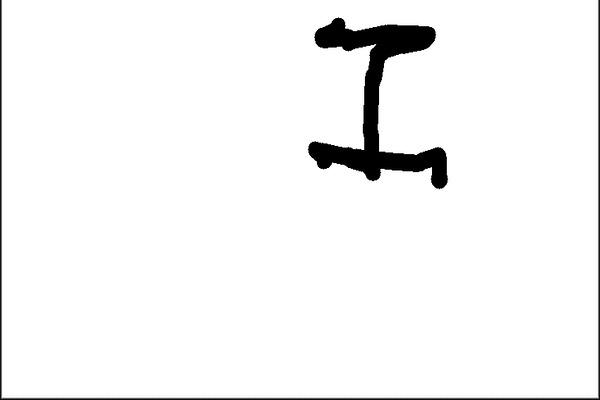i: (285, 12, 468, 194)
